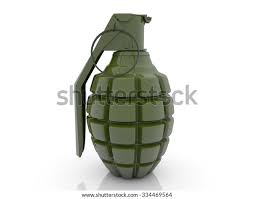bomb: (75, 13, 173, 182)
